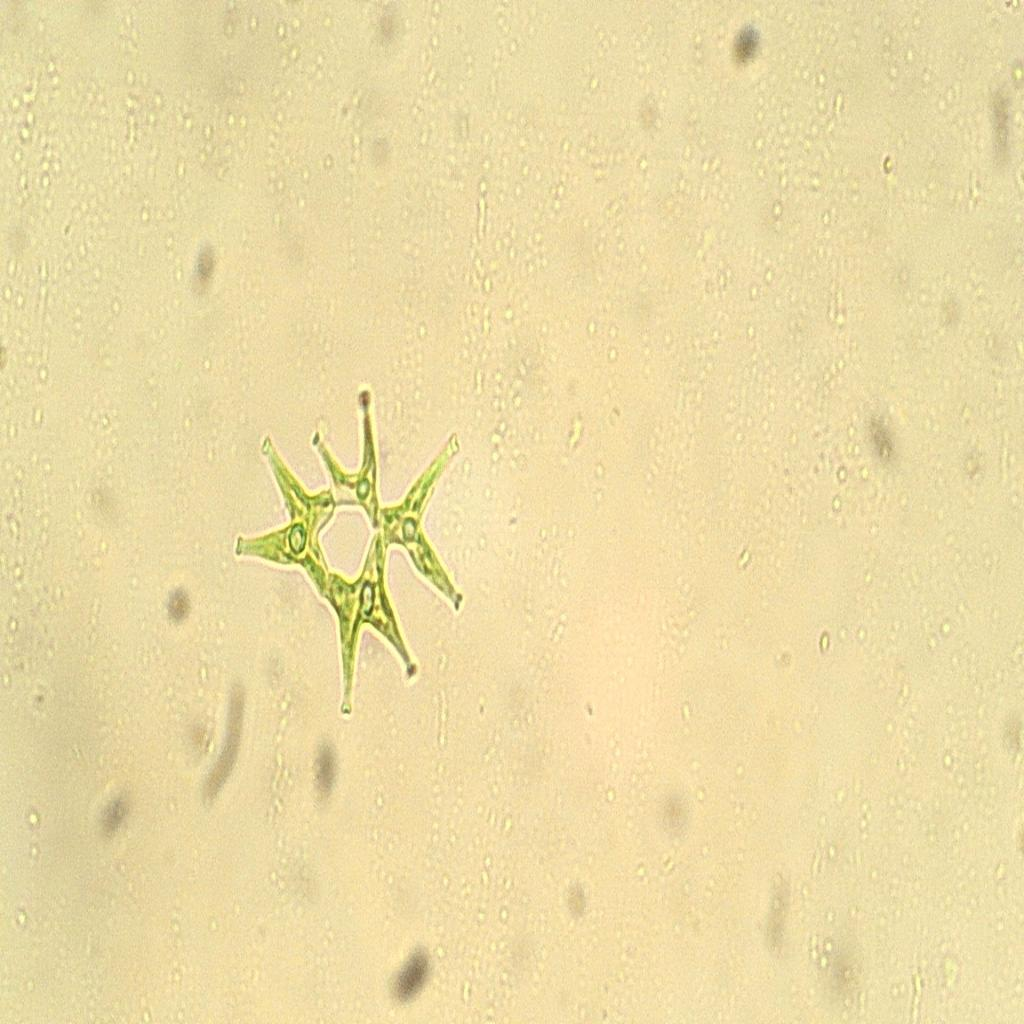Pediastrum_75FI: (230, 380, 480, 726)
